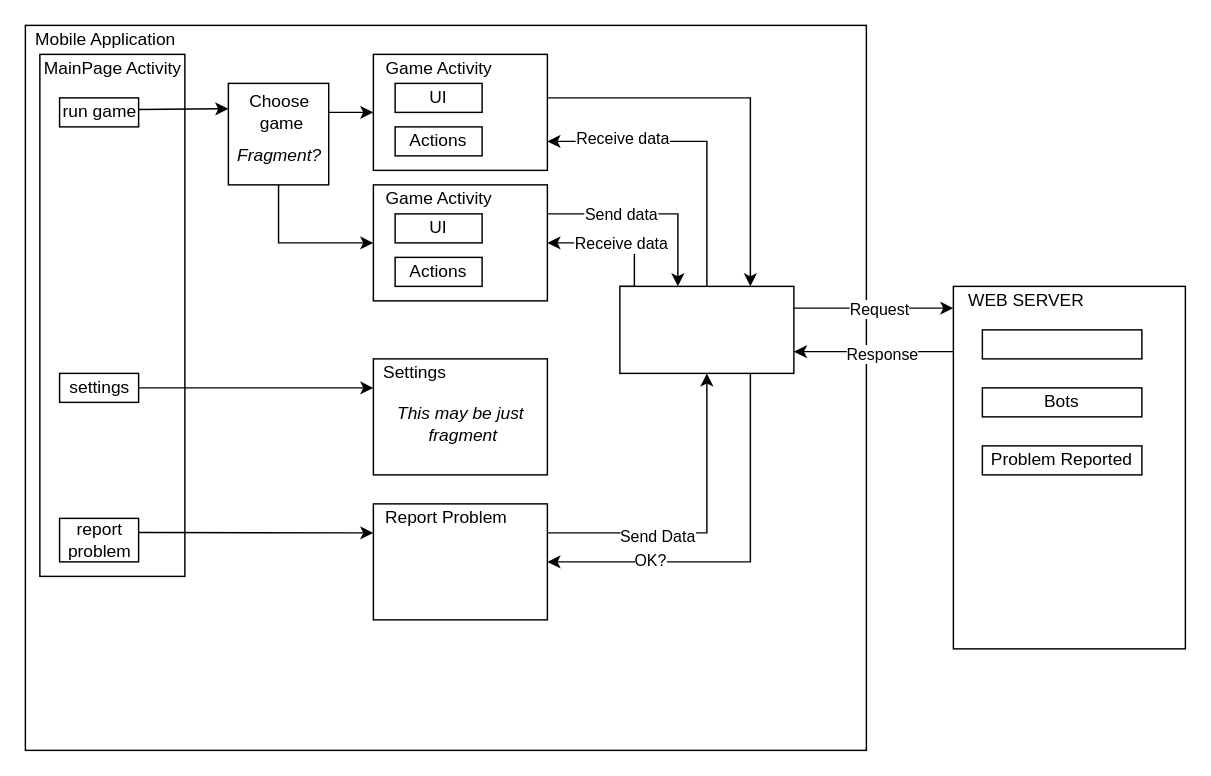
The diagram is 1211 pixels wide and 776 high, and some of its shapes have lost their labels. The shapes that lost their labels are listed below. From the top down, each one's centre as x and y in pixels, then its label:
the point at 706,329: Communication layer
the point at 1061,343: Game Logic
